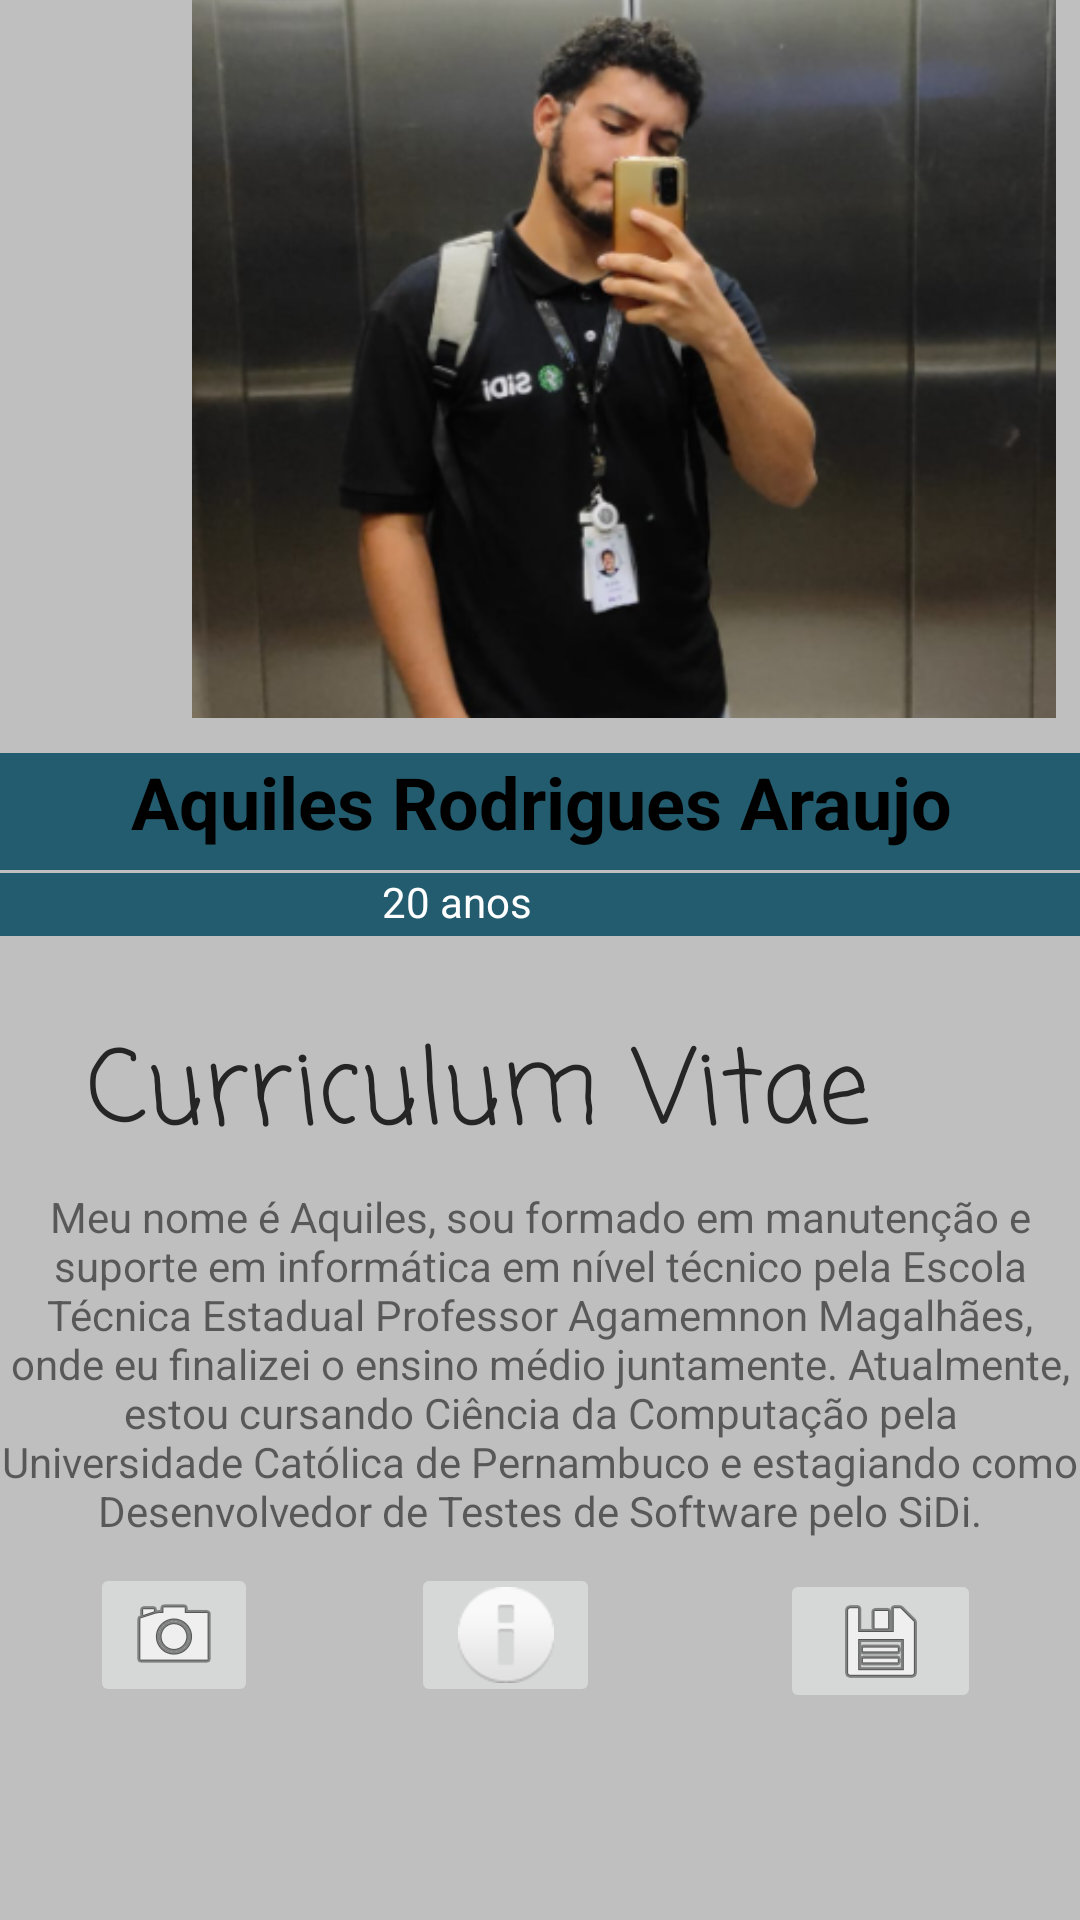

Point at icon controls on the screen. Image size 1080w x 1920h, points as point (x, y).
camera: point (174, 1633)
save: point (881, 1641)
